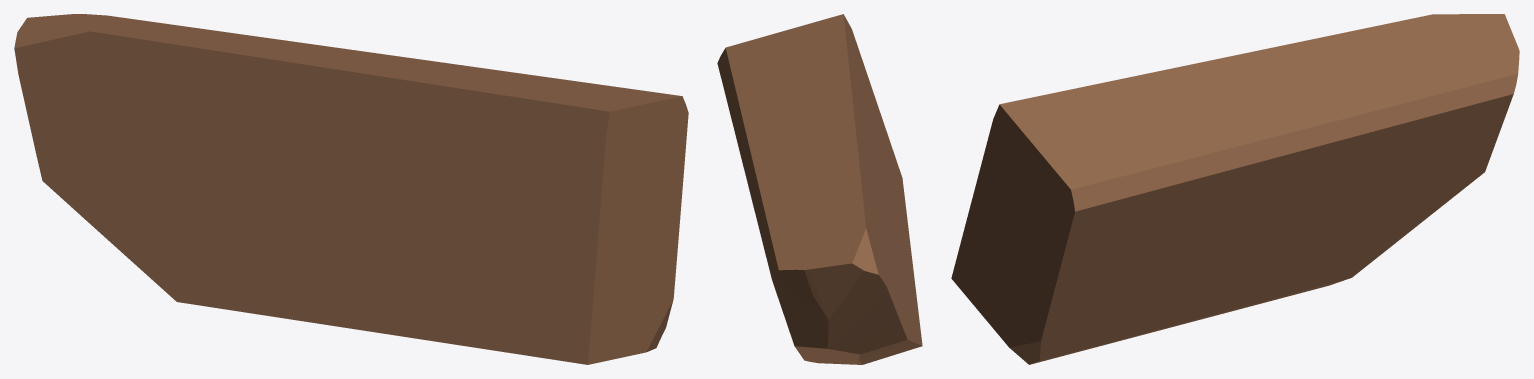
File: WoodCellCube_003_cell_045.fbx
The picture shows the model from 3 angles, left to right: view 1: azimuth 30°, elevation 25°; view 2: azimuth 150°, elevation 25°; view 3: azimuth 270°, elevation 25°; orthographic projection. The views are drawn at different scales.
Visible parts, largest first — view 1: WoodCellCube_003_cell_045; view 2: WoodCellCube_003_cell_045; view 3: WoodCellCube_003_cell_045.
Boxes of the visible parts, bbox=[...] form: WoodCellCube_003_cell_045: bbox=[14, 14, 688, 364]; WoodCellCube_003_cell_045: bbox=[717, 14, 922, 364]; WoodCellCube_003_cell_045: bbox=[951, 14, 1519, 364].
Bounding box in the file's own units: 1.14 × 0.5477 × 0.9139.
Materials: 1 (1 with a texture image).
